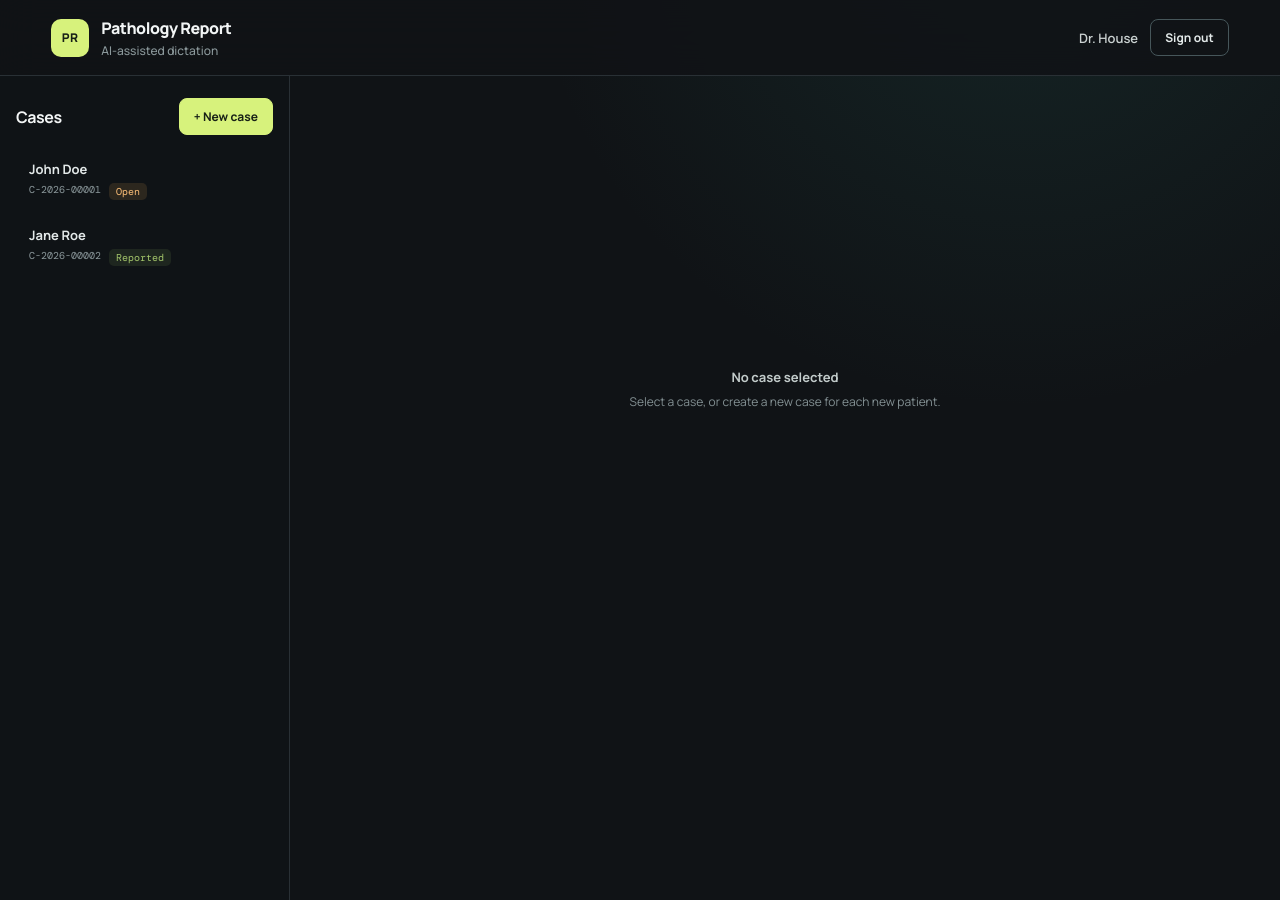
cases › shows a reported case's saved report read-only, without recording
Check: the text "Dr. House" is shown, box [1079, 28, 1138, 46]
Click the button "Jane Roe C-2026-00002 Reported" at (144, 246), box [16, 215, 273, 277]
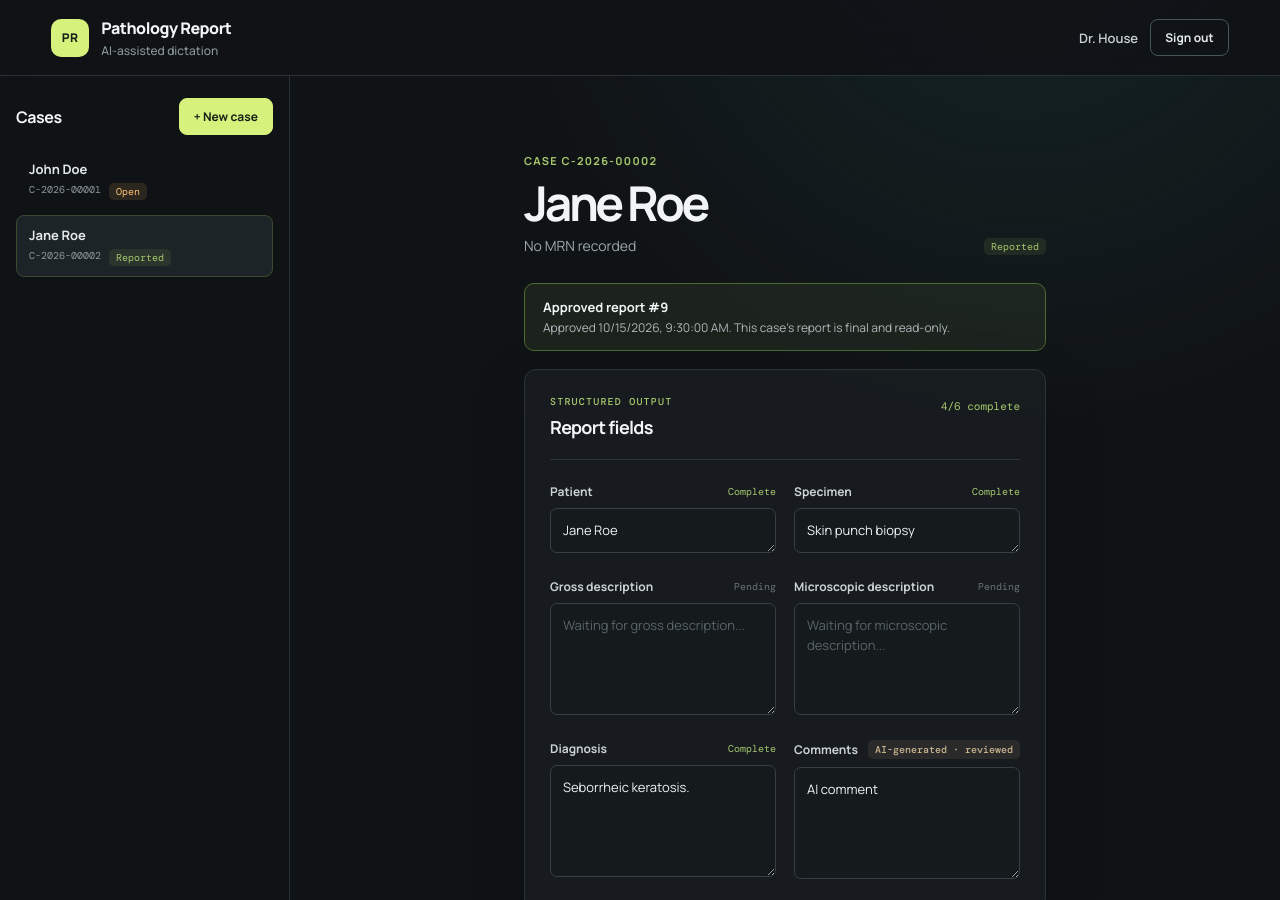
Check: the heading "Jane Roe" is shown, box [524, 179, 707, 226]
Check: the text "Approved report #9" is shown, box [543, 298, 668, 316]
Check: the text box labelled "Diagnosis" holds "Seborrheic keratosis.", box [550, 765, 776, 877]
